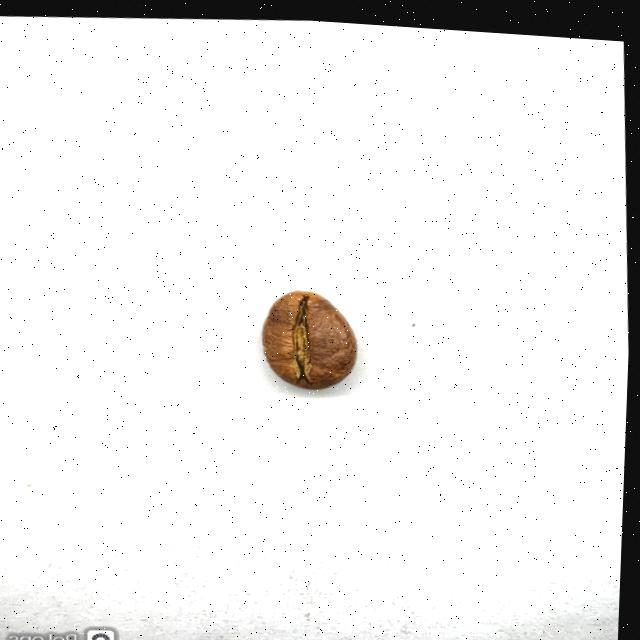Good bean: (263, 285, 362, 385)
